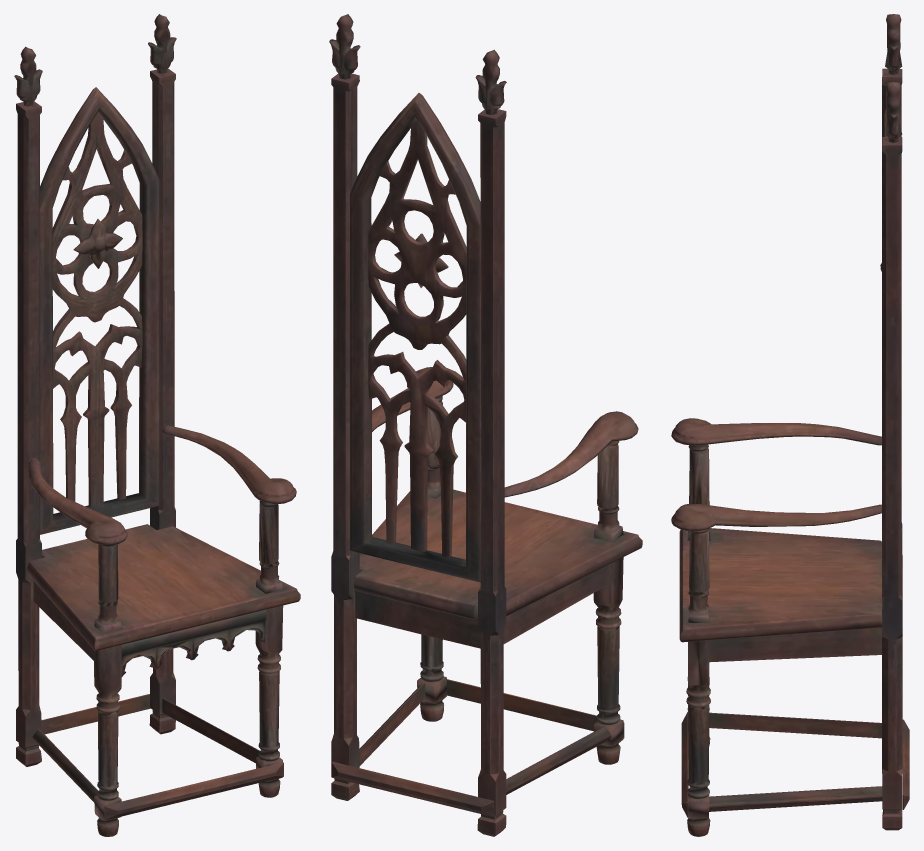
The model's file is WoodenChair_01.glb.
The picture shows the model from 3 angles, left to right: view 1: azimuth 30°, elevation 25°; view 2: azimuth 150°, elevation 25°; view 3: azimuth 270°, elevation 25°; orthographic projection. The views are drawn at different scales.
Parts seen in each view (by area): view 1: WoodenChair_01; view 2: WoodenChair_01; view 3: WoodenChair_01.
Boxes of the visible parts, x1,y1,x2,y2 form: WoodenChair_01: (14, 14, 300, 836); WoodenChair_01: (329, 14, 642, 836); WoodenChair_01: (671, 14, 909, 836).
Bounding box in the file's own units: 0.6878 × 2.27 × 0.6584.
Materials: 1 (1 with a texture image).
